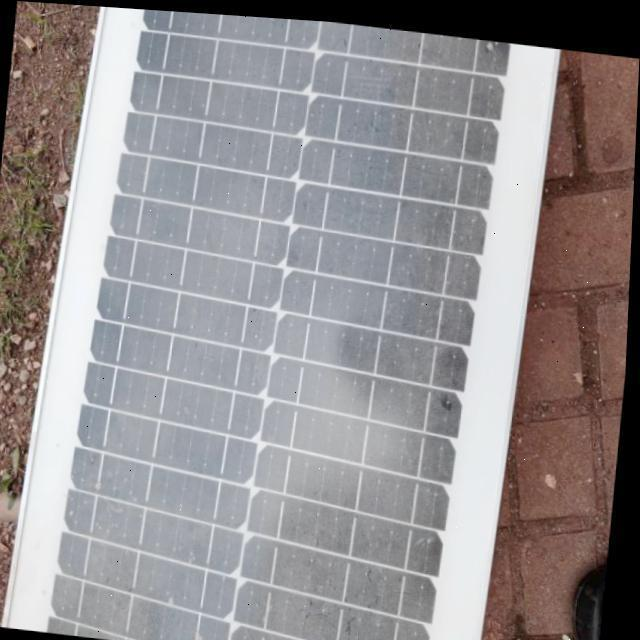Surface Contaminant: (66, 6, 516, 640)
